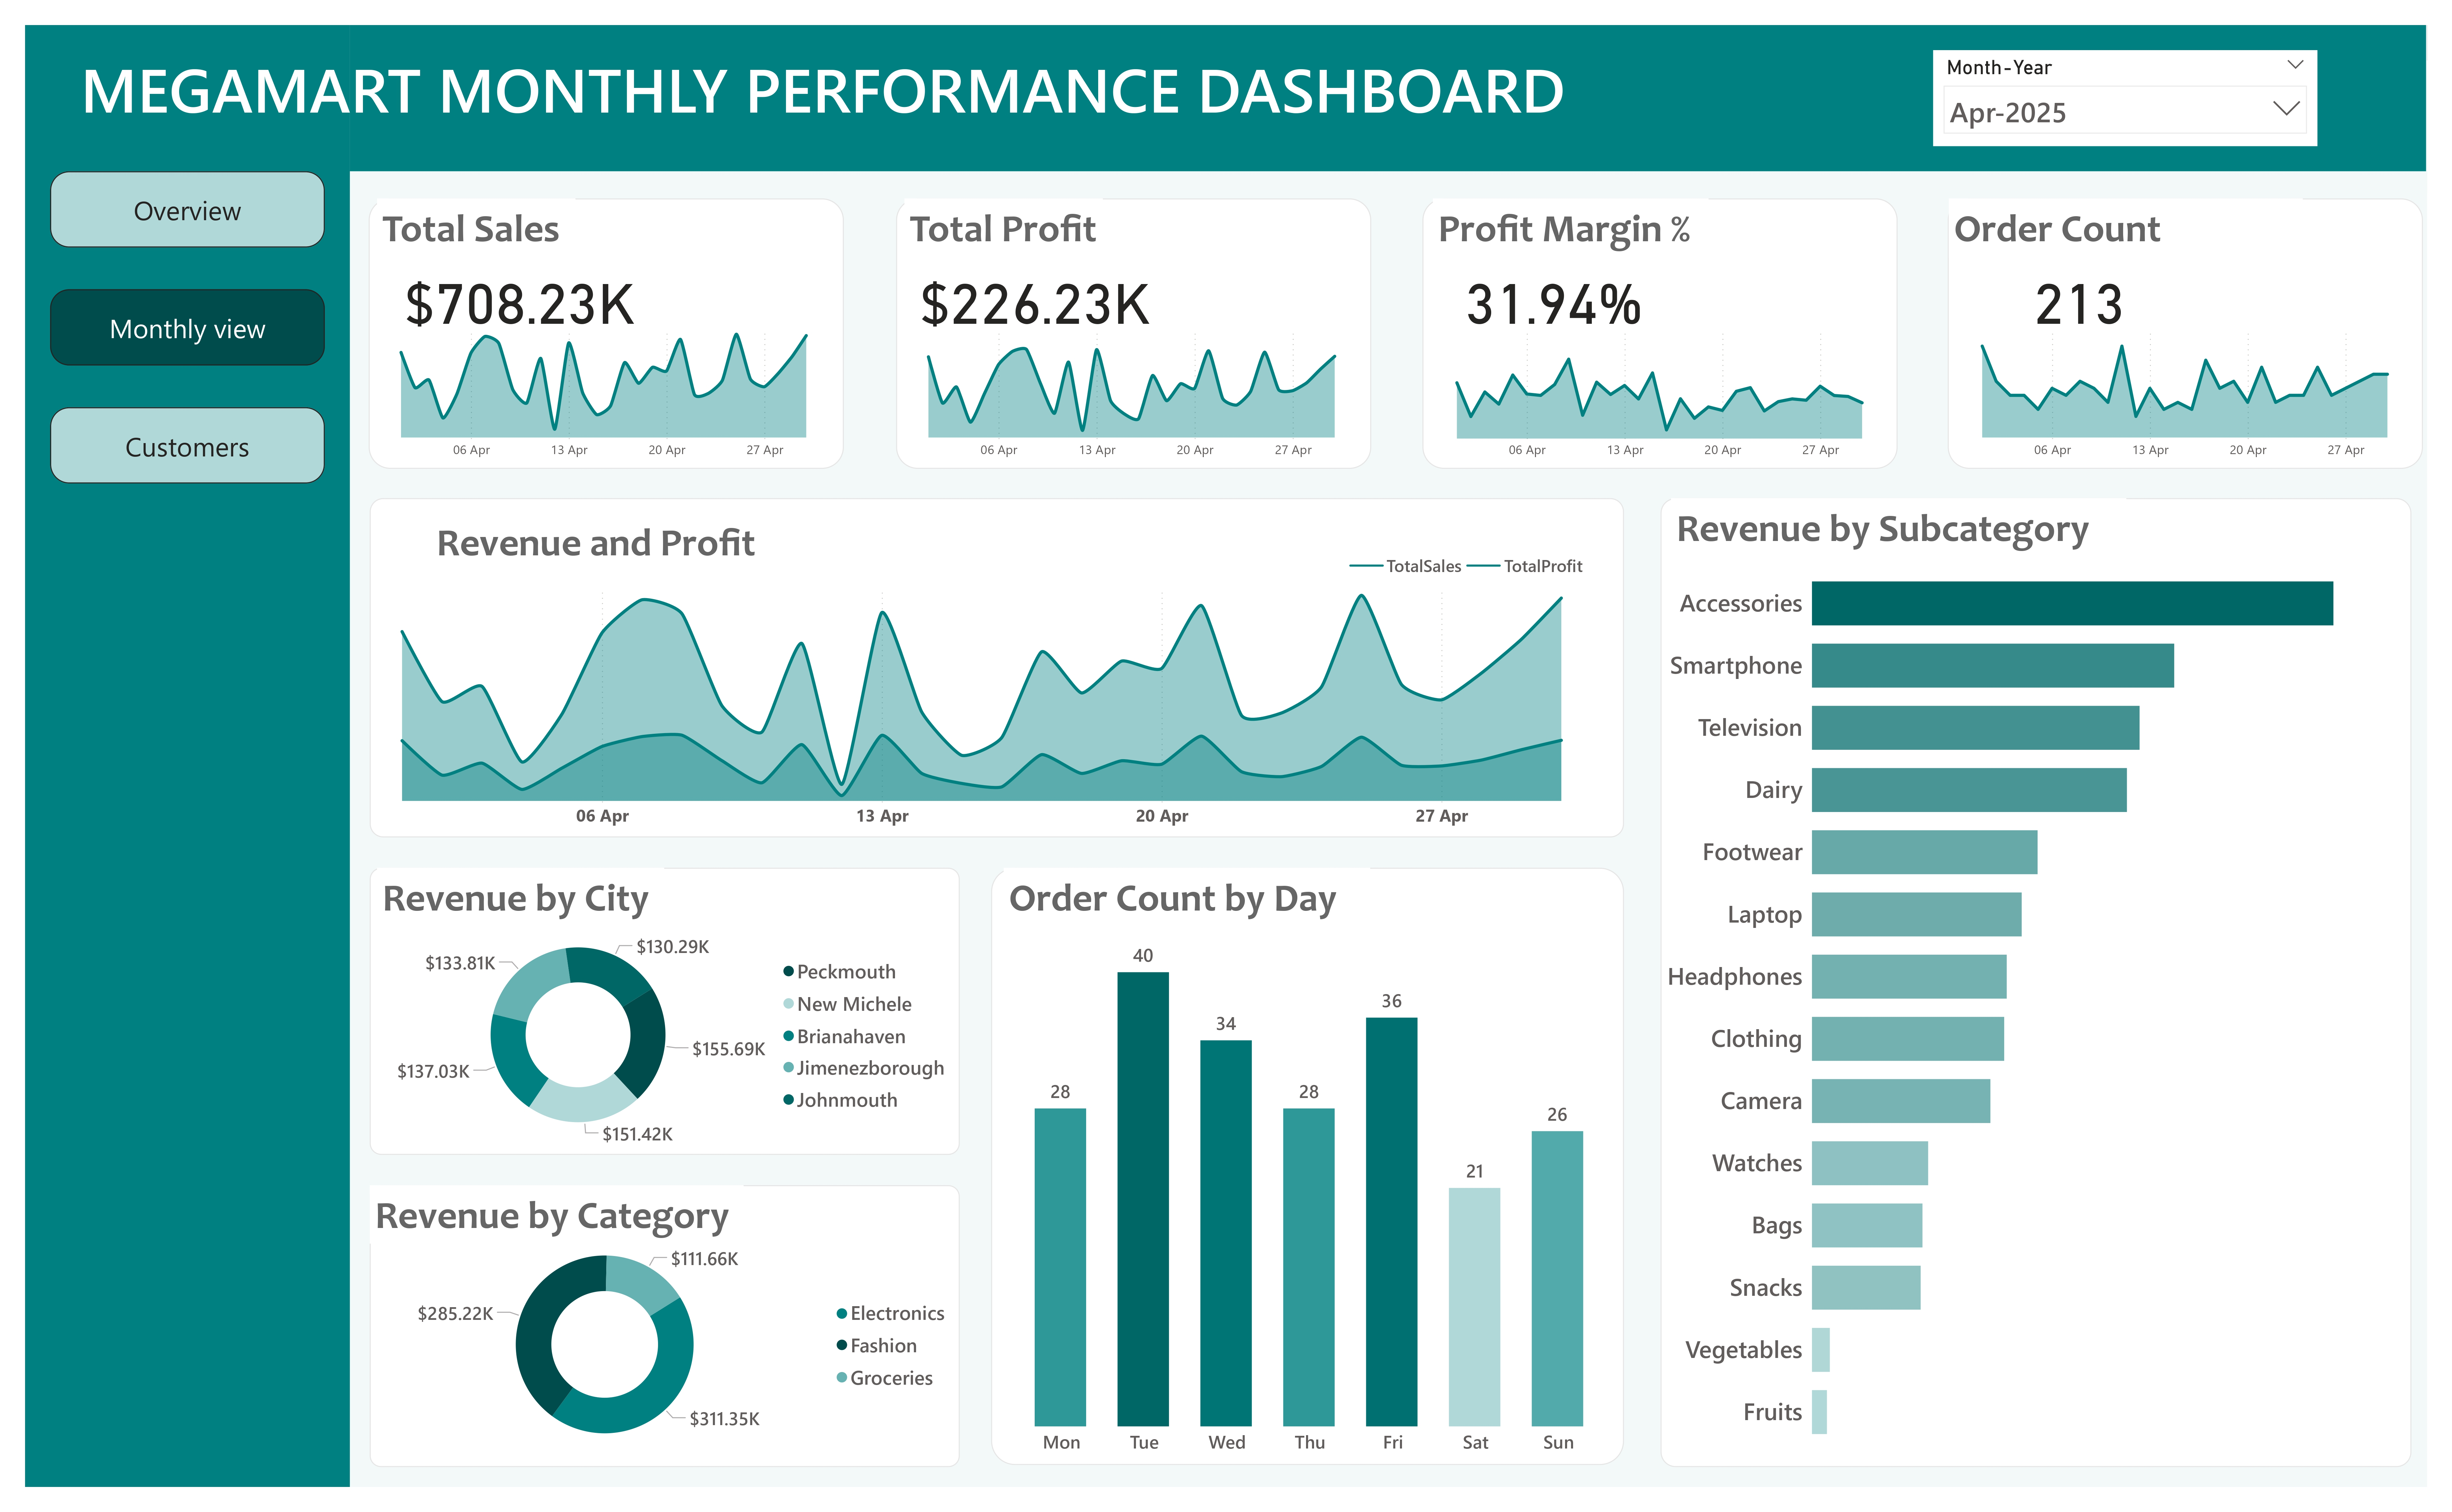

The dashboard page shown, as its layout file describes it:
{"tool":"powerbi","page":{"name":"Monthly view","canvas":[2300,1400],"ordinal":1},"visuals":[{"type":"shape","box":[329.8,1110.5,564.7,270.5],"z":0},{"type":"shape","box":[925.4,806.8,605.1,571.9],"z":1000},{"type":"shape","box":[1566.1,453.2,719,927.8],"z":2000},{"type":"shape","box":[328.9,165.7,455,259.7],"z":3000},{"type":"shape","box":[0,0,310.8,1400],"z":4000},{"type":"shape","box":[310.8,0,1988.5,140],"z":5000},{"type":"card","fields":{"Values":["Transactions.TotalSales"]},"box":[351.2,222.6,244.8,74.2],"z":6000},{"type":"textbox","box":[336.9,166.1,189.8,56.9],"z":7000},{"type":"areaChart","fields":{"Y":["Transactions.TotalSales"],"Category":["Date.Date"]},"box":[336.9,280,434.2,144.7],"z":8000},{"type":"shape","box":[833.8,166.1,455,258.6],"z":9000},{"type":"shape","box":[1337.6,166.1,455,258.6],"z":10000},{"type":"shape","box":[1841.4,166.1,455,258.6],"z":11000},{"type":"areaChart","fields":{"Y":["Transactions.TotalProfit"],"Category":["Date.Date"]},"box":[842.4,280,434.2,144.7],"z":12000},{"type":"areaChart","fields":{"Category":["Date.Date"],"Y":["Transactions.ProfitMargin%"]},"box":[1347.8,280,434.2,144.7],"z":13000},{"type":"areaChart","fields":{"Category":["Date.Date"],"Y":["Transactions.TotalOrders"]},"box":[1850.8,280,434.2,144.7],"z":14000},{"type":"card","fields":{"Values":["Transactions.TotalProfit"]},"box":[842.4,223.1,249.2,73.6],"z":15000},{"type":"card","fields":{"Values":["Transactions.ProfitMargin%"]},"box":[1362,223.1,204.1,73.6],"z":16000},{"type":"card","fields":{"Values":["Transactions.TotalOrders"]},"box":[1865.1,223.1,204.1,73.6],"z":17000},{"type":"textbox","box":[842.4,166.1,189.8,56.9],"z":18000},{"type":"textbox","box":[1347.8,165.7,264.6,56.9],"z":19000},{"type":"textbox","box":[1842.5,165.7,338.8,56.9],"z":20000},{"type":"shape","box":[329.8,453.2,1200.7,325.1],"z":21000},{"type":"areaChart","fields":{"Category":["Date.Date"],"Y":["Transactions.TotalSales","Transactions.TotalProfit"]},"box":[329.8,495.9,1172.2,282.4],"z":22000},{"type":"textbox","box":[389.2,467.5,329.8,56.9],"z":23000},{"type":"slicer","fields":{"Values":["Date.Year-Month"]},"box":[1827.1,23.7,367.8,92.5],"z":24000},{"type":"barChart","fields":{"Category":["Products.SubCategory"],"Y":["Transactions.TotalSales"]},"box":[1566.1,495.9,697.6,882.7],"z":25000},{"type":"textbox","box":[1575.6,453.2,436.6,56.9],"z":26000},{"type":"donutChart","fields":{"Category":["Products.Category"],"Y":["Transactions.TotalSales"]},"box":[329.8,1148.5,564.7,230.2],"z":27000},{"type":"textbox","box":[329.8,1110.5,358.3,56.9],"z":28000},{"type":"shape","box":[329.8,806.8,564.7,275],"z":29000},{"type":"donutChart","fields":{"Category":["Stores.City"],"Y":["Transactions.TotalSales"]},"box":[329.8,851.9,564.7,230.2],"z":30000},{"type":"textbox","box":[336.9,806.8,275.3,56.9],"z":31000},{"type":"columnChart","fields":{"Y":["Transactions.TotalOrders"],"Category":["Date.Day Name Short"]},"box":[930.2,863.7,600.3,514.9],"z":32000},{"type":"textbox","box":[937.3,806.8,351.2,56.9],"z":33000},{"type":"textbox","box":[37.5,10,1453.4,129.9],"z":34000},{"type":"pageNavigator","box":[23.7,140,263.4,301.4],"z":35000}]}

Visuals, with their boxes on the page's 2300x1400 design canvas (x1, y1, x2, y2). These are canvas units, not pixel positions in the 2452x1512 screenshot, which may show the page scaled, cropped or inside an application window:
shape: x1=330 y1=1110 x2=894 y2=1381
shape: x1=925 y1=807 x2=1530 y2=1379
shape: x1=1566 y1=453 x2=2285 y2=1381
shape: x1=329 y1=166 x2=784 y2=425
shape: x1=0 y1=0 x2=311 y2=1400
shape: x1=311 y1=0 x2=2299 y2=140
card - Transactions.TotalSales: x1=351 y1=223 x2=596 y2=297
textbox: x1=337 y1=166 x2=527 y2=223
areaChart - Transactions.TotalSales x Date.Date: x1=337 y1=280 x2=771 y2=425
shape: x1=834 y1=166 x2=1289 y2=425
shape: x1=1338 y1=166 x2=1793 y2=425
shape: x1=1841 y1=166 x2=2296 y2=425
areaChart - Transactions.TotalProfit x Date.Date: x1=842 y1=280 x2=1277 y2=425
areaChart - Date.Date x Transactions.ProfitMargin%: x1=1348 y1=280 x2=1782 y2=425
areaChart - Date.Date x Transactions.TotalOrders: x1=1851 y1=280 x2=2285 y2=425
card - Transactions.TotalProfit: x1=842 y1=223 x2=1092 y2=297
card - Transactions.ProfitMargin%: x1=1362 y1=223 x2=1566 y2=297
card - Transactions.TotalOrders: x1=1865 y1=223 x2=2069 y2=297
textbox: x1=842 y1=166 x2=1032 y2=223
textbox: x1=1348 y1=166 x2=1612 y2=223
textbox: x1=1842 y1=166 x2=2181 y2=223
shape: x1=330 y1=453 x2=1530 y2=778
areaChart - Date.Date x Transactions.TotalSales: x1=330 y1=496 x2=1502 y2=778
textbox: x1=389 y1=468 x2=719 y2=524
slicer - Date.Year-Month: x1=1827 y1=24 x2=2195 y2=116
barChart - Products.SubCategory x Transactions.TotalSales: x1=1566 y1=496 x2=2264 y2=1379
textbox: x1=1576 y1=453 x2=2012 y2=510
donutChart - Products.Category x Transactions.TotalSales: x1=330 y1=1148 x2=894 y2=1379
textbox: x1=330 y1=1110 x2=688 y2=1167
shape: x1=330 y1=807 x2=894 y2=1082
donutChart - Stores.City x Transactions.TotalSales: x1=330 y1=852 x2=894 y2=1082
textbox: x1=337 y1=807 x2=612 y2=864
columnChart - Transactions.TotalOrders x Date.Day Name Short: x1=930 y1=864 x2=1530 y2=1379
textbox: x1=937 y1=807 x2=1288 y2=864
textbox: x1=38 y1=10 x2=1491 y2=140
pageNavigator: x1=24 y1=140 x2=287 y2=441
